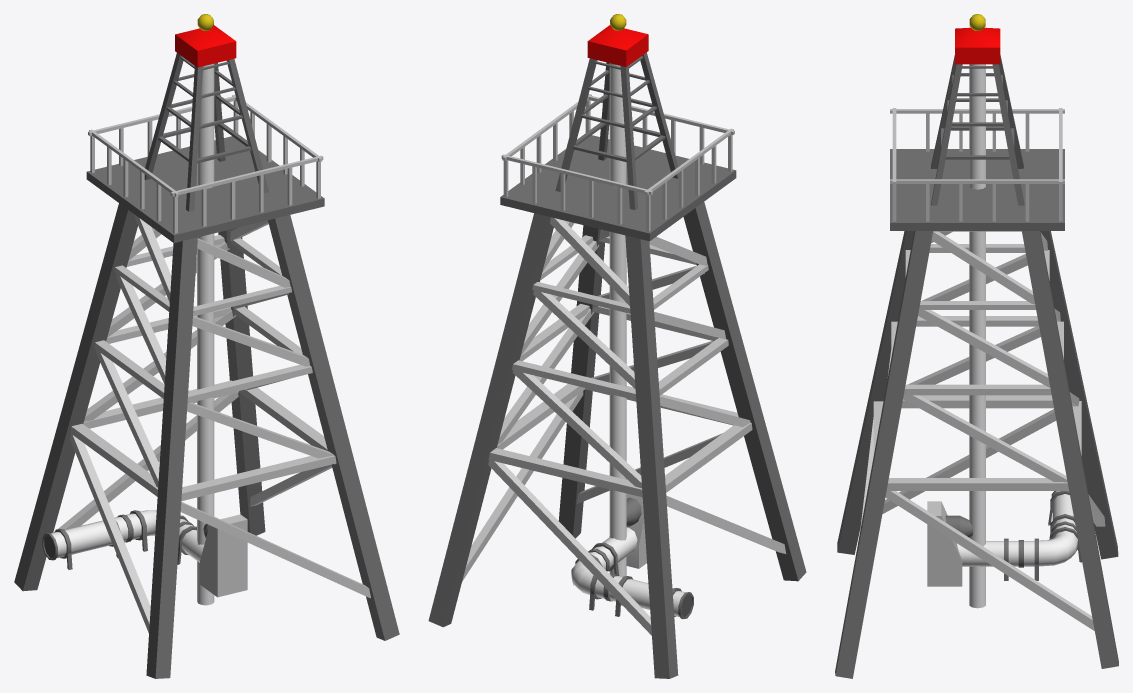
File: FluidRig.fbx
The picture shows the model from 3 angles, left to right: view 1: azimuth 30°, elevation 25°; view 2: azimuth 150°, elevation 25°; view 3: azimuth 270°, elevation 25°; orthographic projection.
Parts seen in each view (by area): view 1: FluidRig; view 2: FluidRig; view 3: FluidRig.
Boxes of the visible parts, bbox=[...] form: FluidRig: bbox=[14, 14, 399, 678]; FluidRig: bbox=[428, 14, 806, 678]; FluidRig: bbox=[835, 14, 1118, 678].
Bounding box in the file's own units: 325 × 765 × 324.
